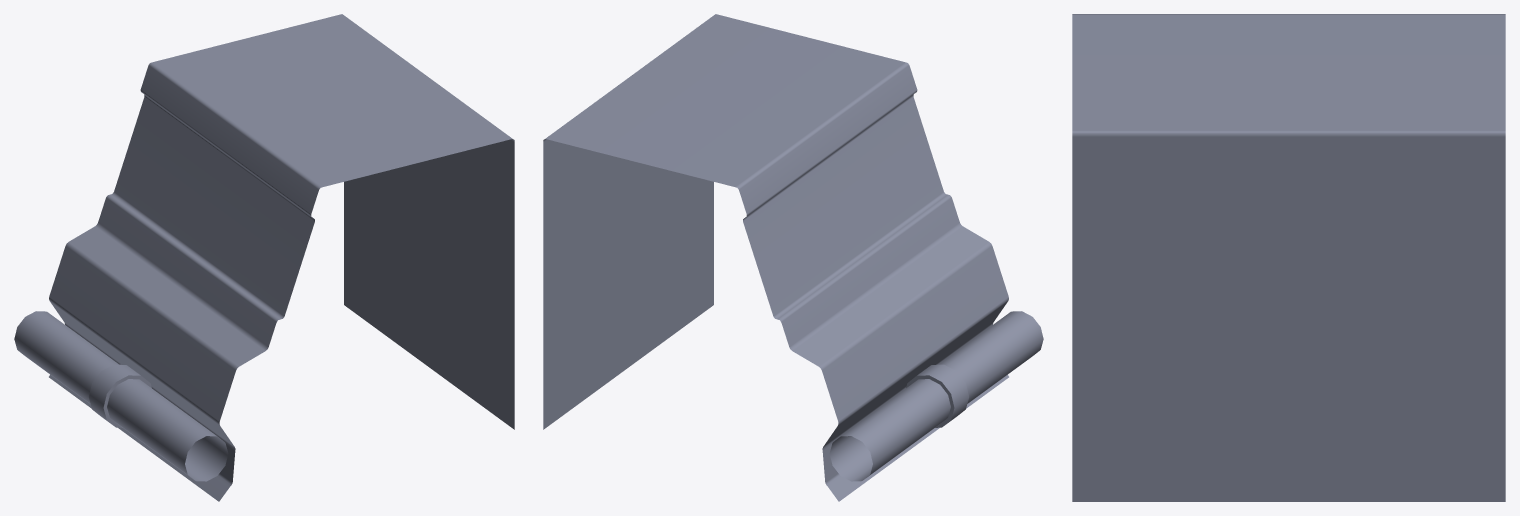
File: Wall2TEST.fbx
The picture shows the model from 3 angles, left to right: view 1: azimuth 30°, elevation 25°; view 2: azimuth 150°, elevation 25°; view 3: azimuth 270°, elevation 25°; orthographic projection. The views are drawn at different scales.
Parts seen in each view (by area): view 1: Wall2; view 2: Wall2; view 3: Wall2.
Part boxes in pixels (bbox=[...]): Wall2: bbox=[14, 14, 514, 501]; Wall2: bbox=[543, 14, 1043, 501]; Wall2: bbox=[1072, 14, 1505, 501].
Bounding box in the file's own units: 1.13 × 0.9425 × 1.
